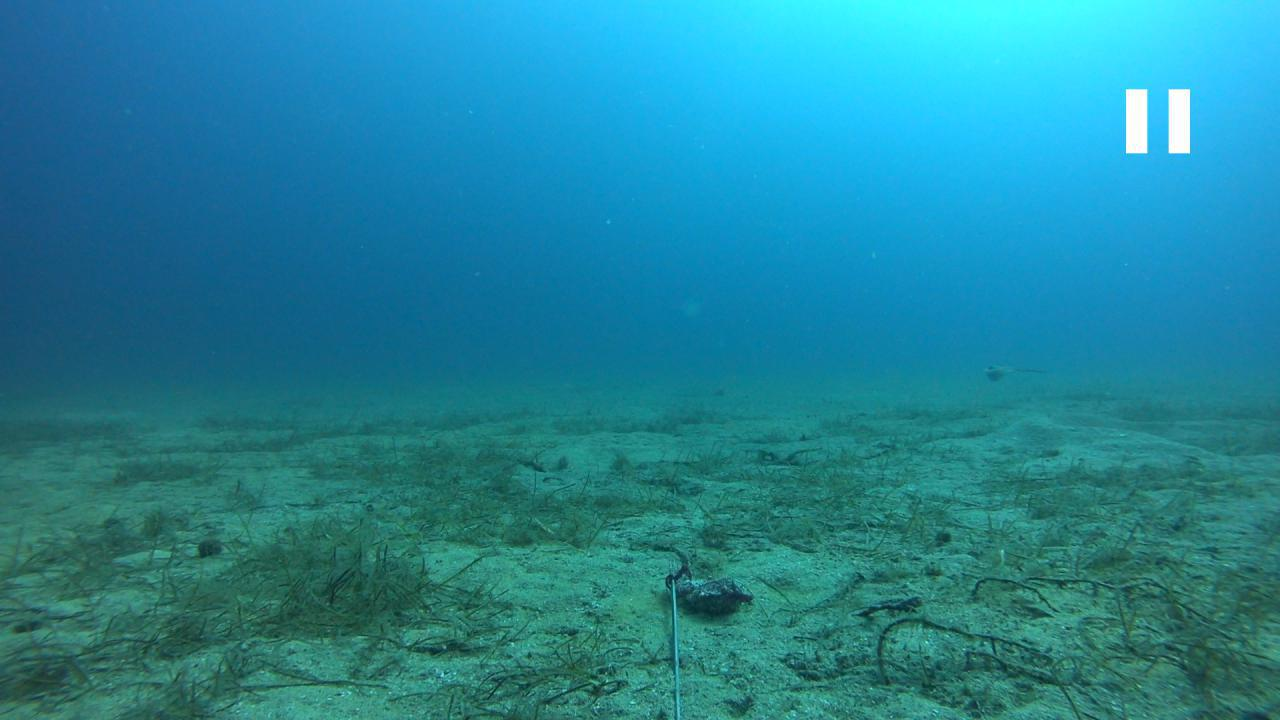dasyatis: (982, 362, 1052, 380)
